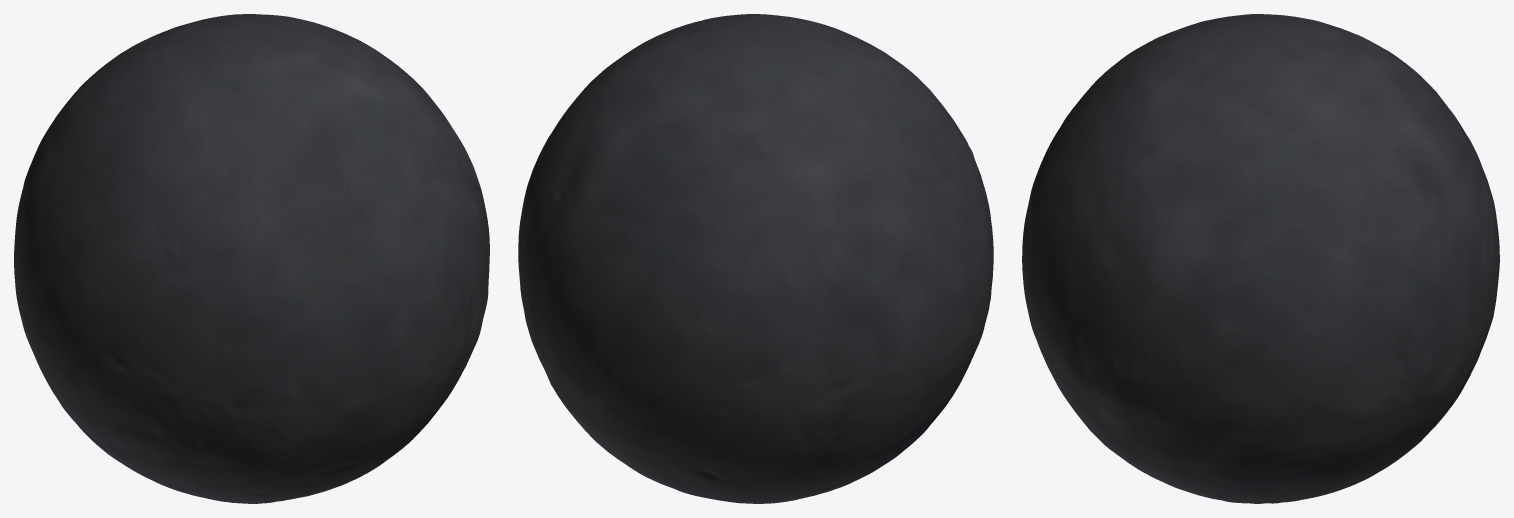
Rendered from depression.glb.
3 renders of one model, left to right at view 1: azimuth 30°, elevation 25°; view 2: azimuth 150°, elevation 25°; view 3: azimuth 270°, elevation 25°, orthographic.
Parts seen in each view (by area): view 1: geometry_0; view 2: geometry_0; view 3: geometry_0.
Boxes of the visible parts, x1,y1,x2,y2 form: geometry_0: (14, 14, 489, 503); geometry_0: (518, 14, 993, 503); geometry_0: (1022, 14, 1499, 503).
Bounding box in the file's own units: 0.5815 × 0.6117 × 0.5808.
1 material, 1 textured.
